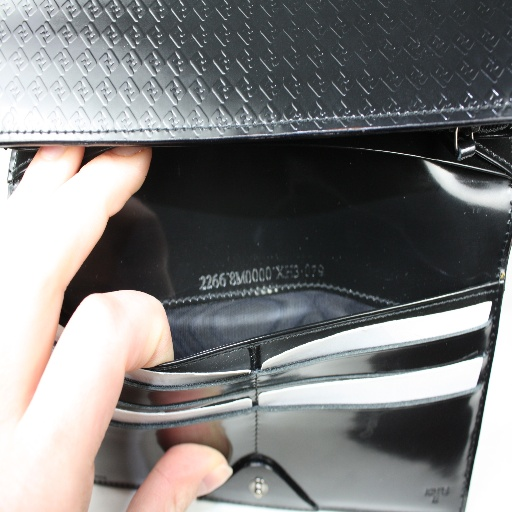hand: (0, 140, 233, 511)
